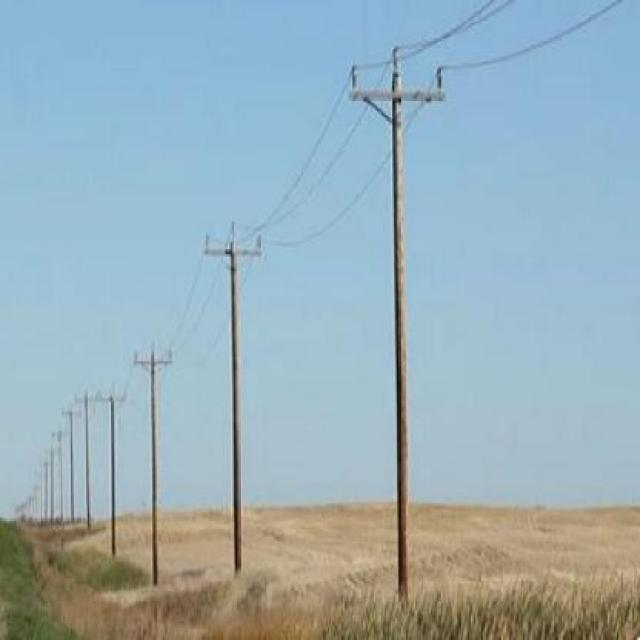pole: (351, 42, 449, 587), (198, 218, 270, 572), (131, 339, 180, 587), (91, 380, 129, 548)
